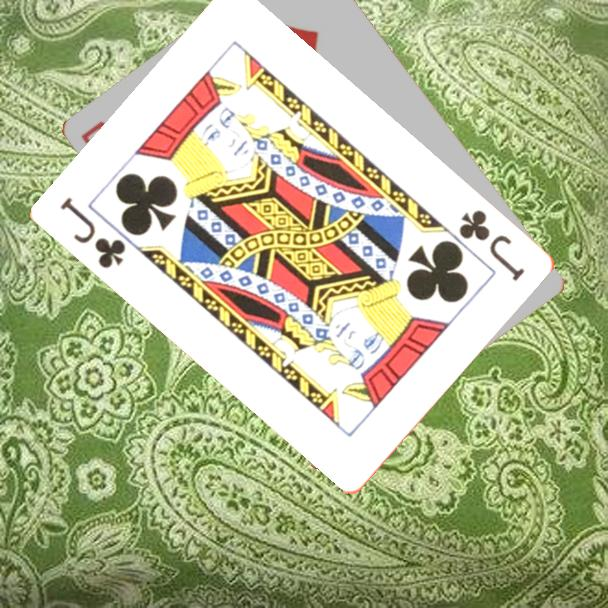c11: (57, 193, 130, 272), (456, 206, 529, 284)
